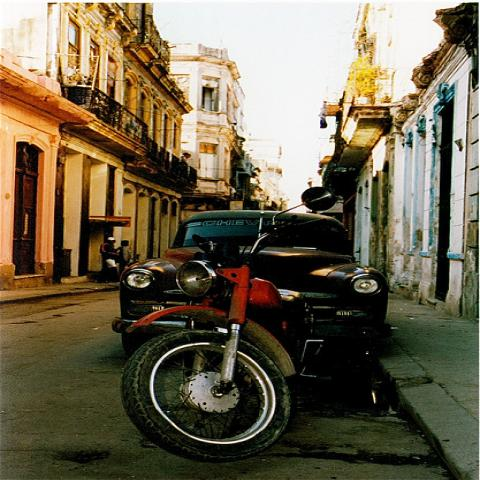car: (113, 208, 390, 356)
motorcycle: (121, 186, 336, 460)
